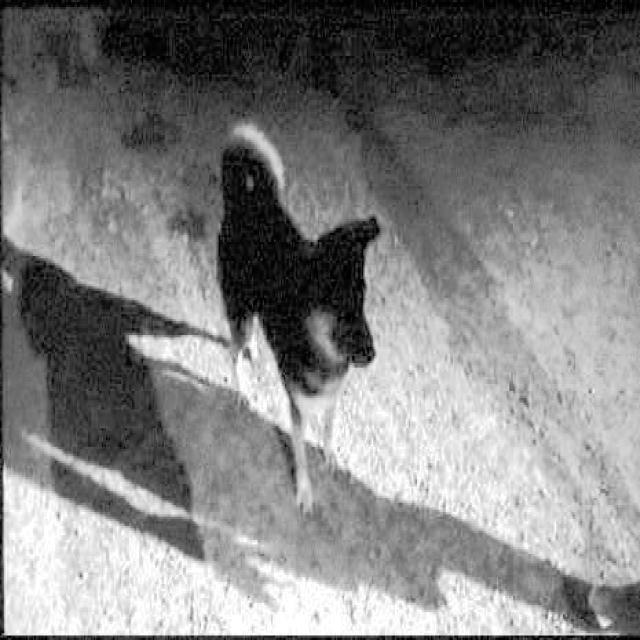Dog: (202, 112, 399, 522)
